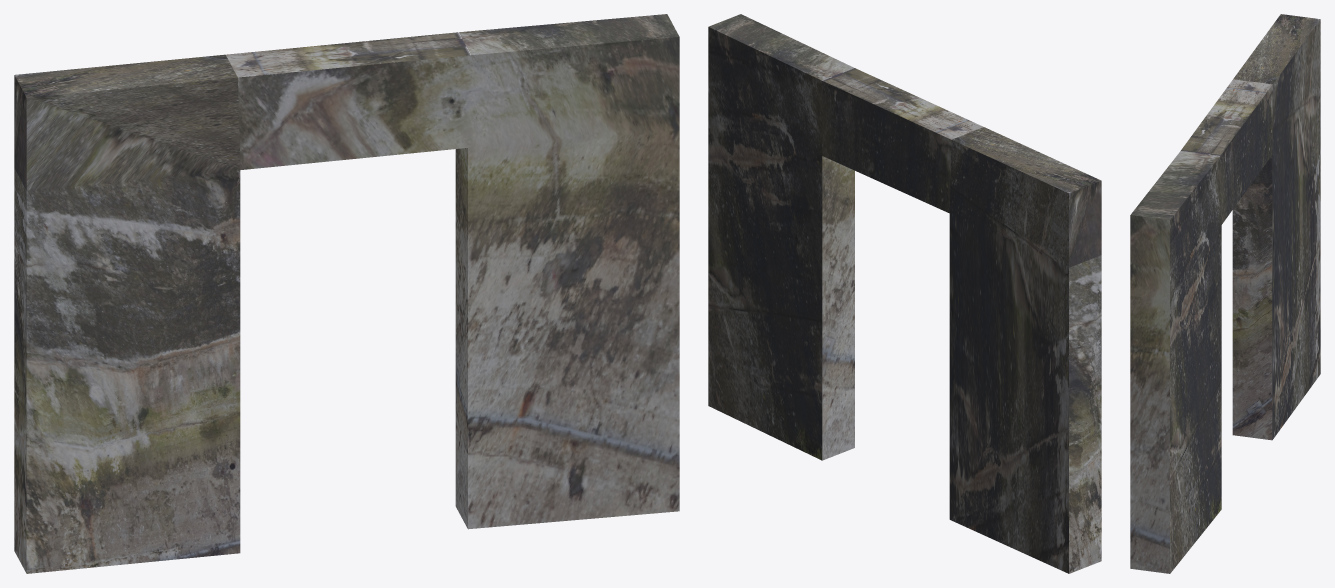
The model's file is parede_uv corrigido.fbx.
3 views of the same model, side by side, from view 1: azimuth 30°, elevation 25°; view 2: azimuth 150°, elevation 25°; view 3: azimuth 270°, elevation 25° (orthographic). The views are drawn at different scales.
Parts seen in each view (by area): view 1: pCube1; view 2: pCube1; view 3: pCube1.
Boxes of the visible parts, x1,y1,x2,y2 form: pCube1: [14, 14, 679, 573]; pCube1: [708, 14, 1101, 573]; pCube1: [1130, 14, 1320, 573].
Bounding box in the file's own units: 1.18 × 0.9444 × 0.458.
